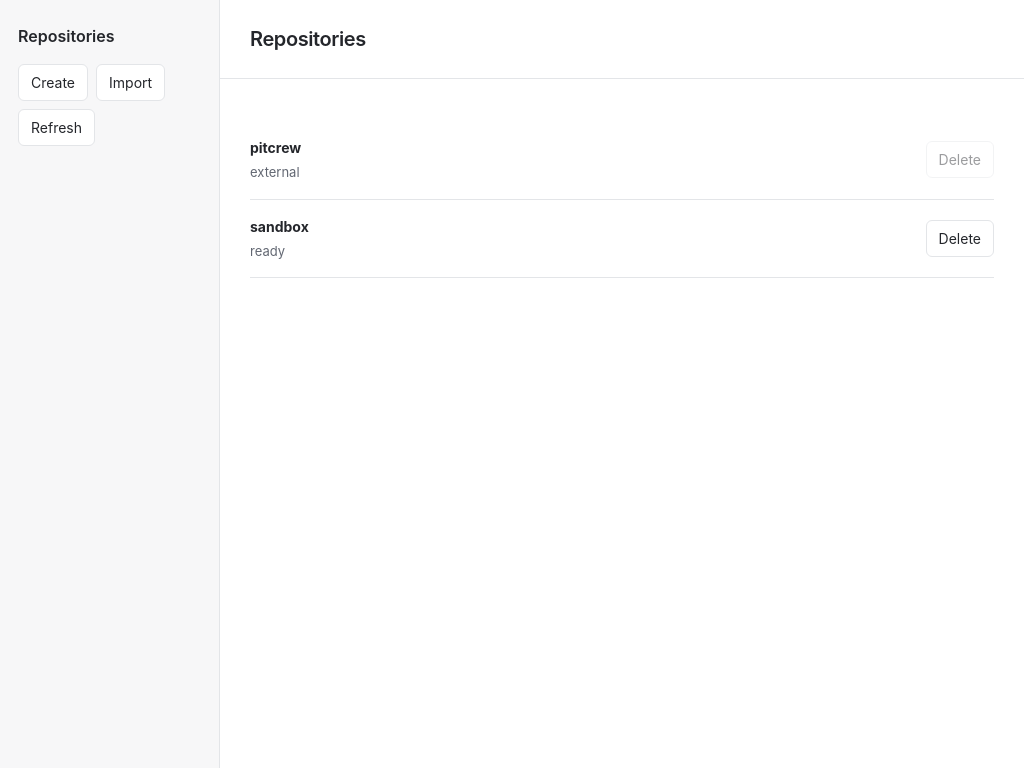
Test: requires explicit credential consent before creating and preserves empty/read-only disclosure
Expected: the text "sandbox" is shown, [250,218,309,234]
Click the button "Create" at (53, 82), box [18,64,88,101]
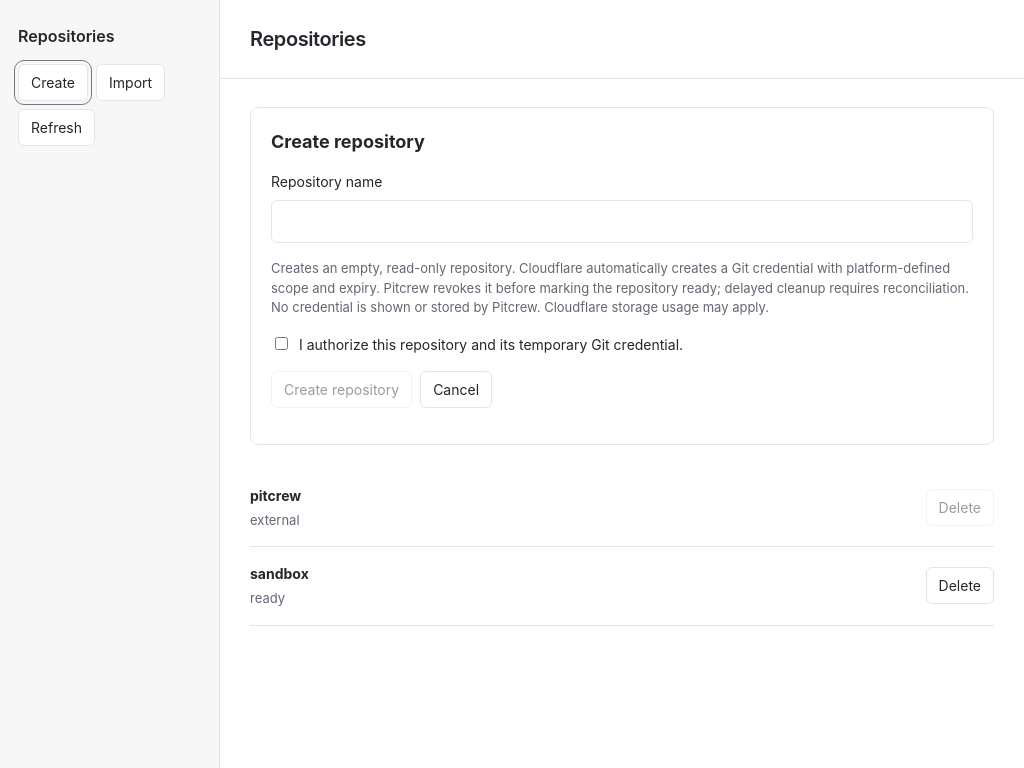
Type "new-repo" into the field labelled "Repository name" at (622, 222), box [271,200,973,243]
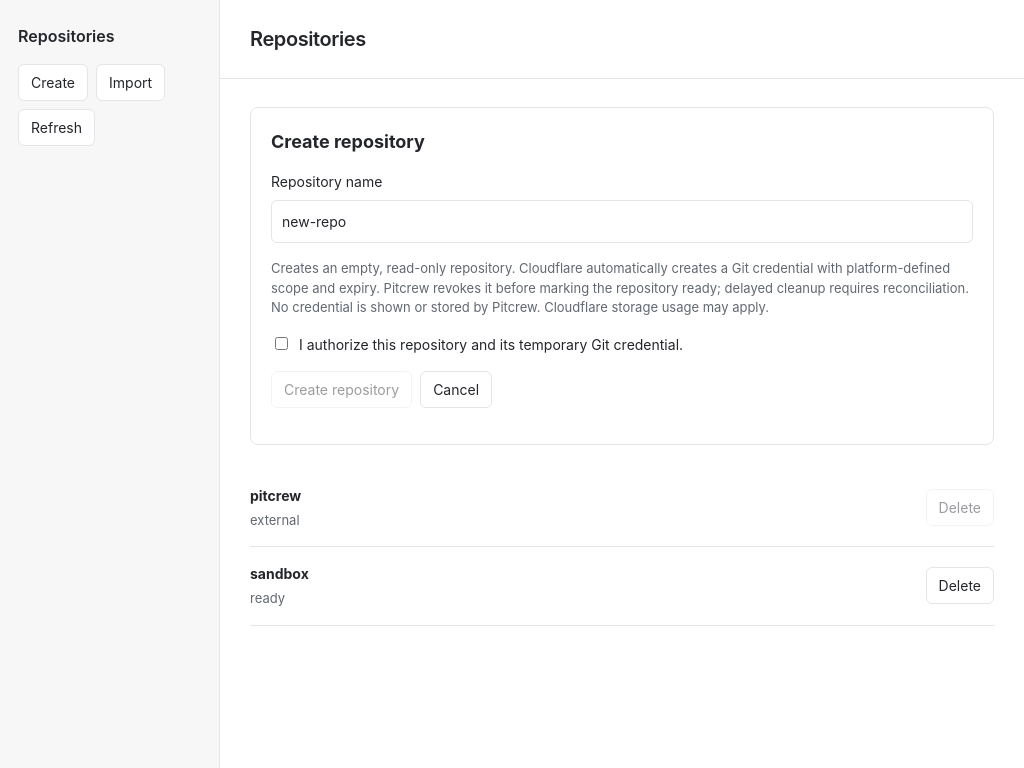
Expected: the button "Create repository" is disabled, [271,370,412,408]
Expected: the text "platform-defined scope and expiry" shows "read-only", [271,260,519,276]
Click the checkbox at (282, 343), box [275,336,288,350]
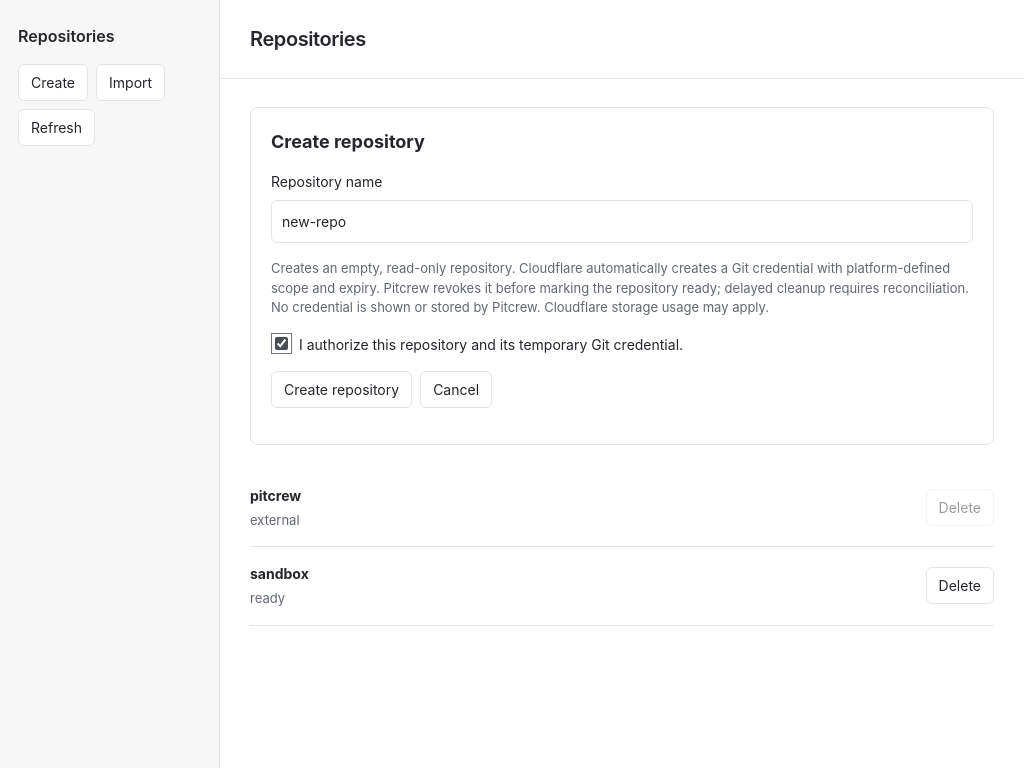
Click the button "Create repository" at (342, 389), box [271,370,412,408]
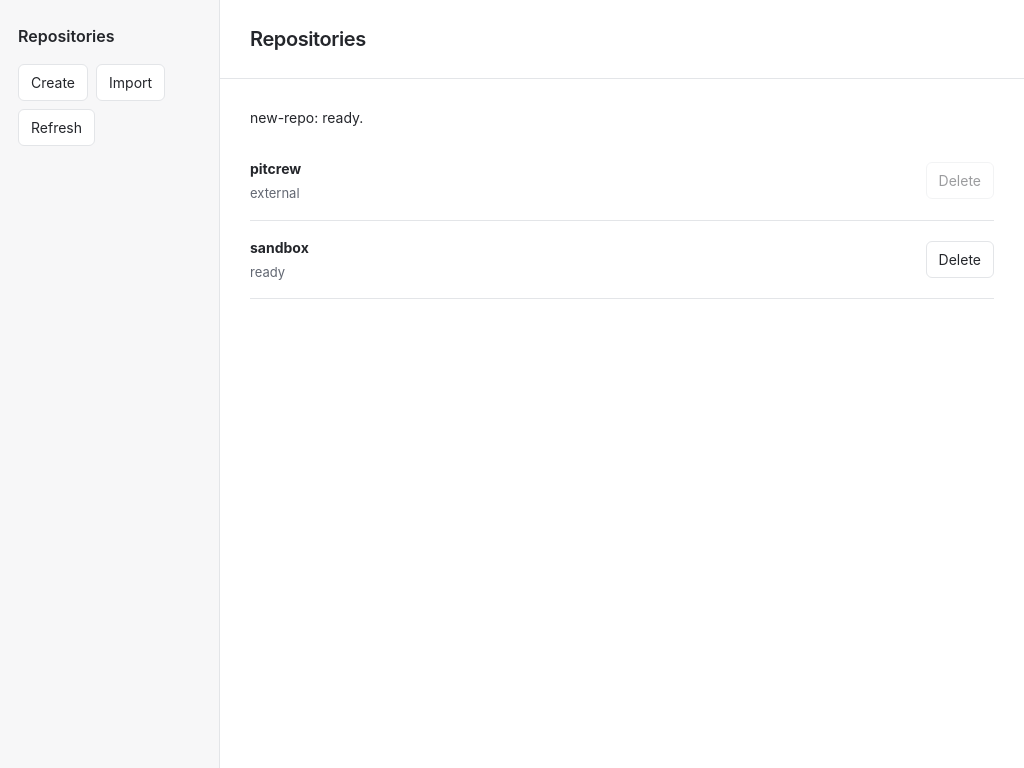
Expected: the message shows "new-repo: ready", [250,109,363,126]
